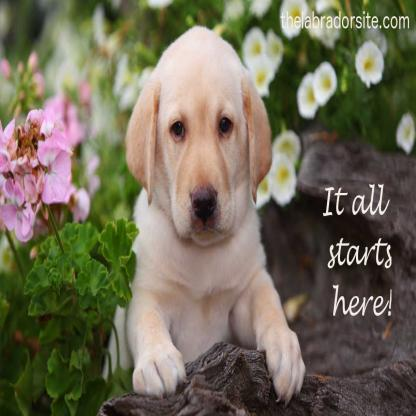Labarador Retriever: (122, 23, 308, 402)
